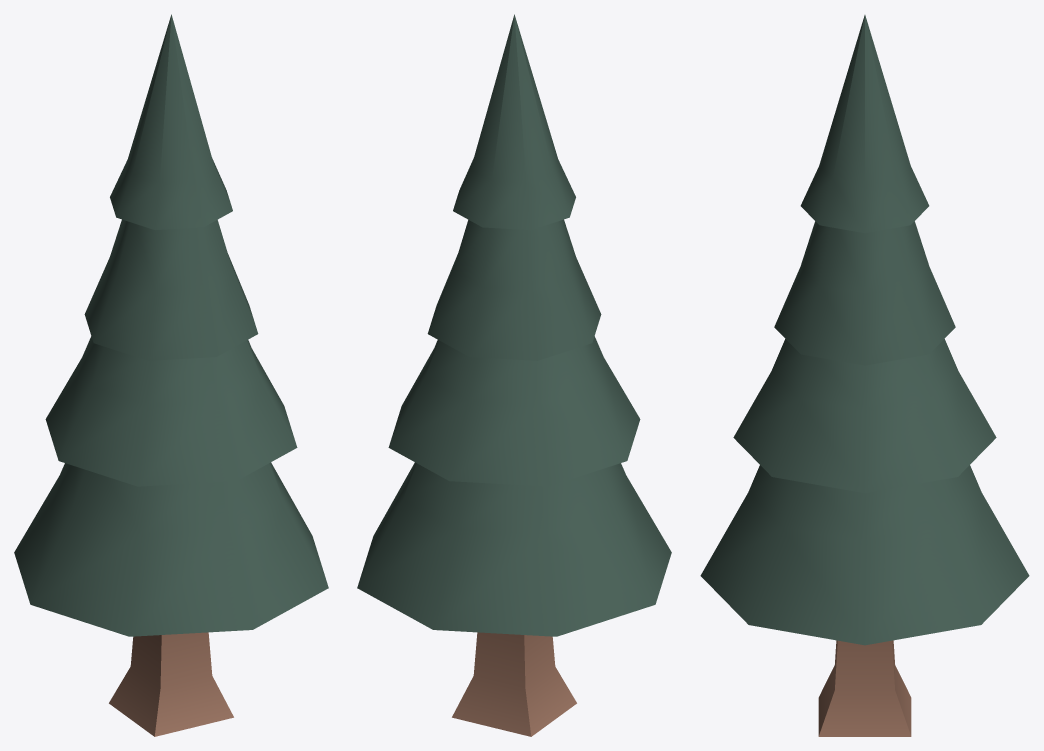
File: tree-2.glb
3 renders of one model, left to right at view 1: azimuth 30°, elevation 25°; view 2: azimuth 150°, elevation 25°; view 3: azimuth 270°, elevation 25°, orthographic.
Visible parts, largest first — view 1: tree.001; view 2: tree.001; view 3: tree.001.
Part boxes in pixels (x1,y1,x2,y2): tree.001: (14,14,328,736); tree.001: (357,14,671,736); tree.001: (700,15,1029,736).
Bounding box in the file's own units: 0.7366 × 1.74 × 0.7366.
